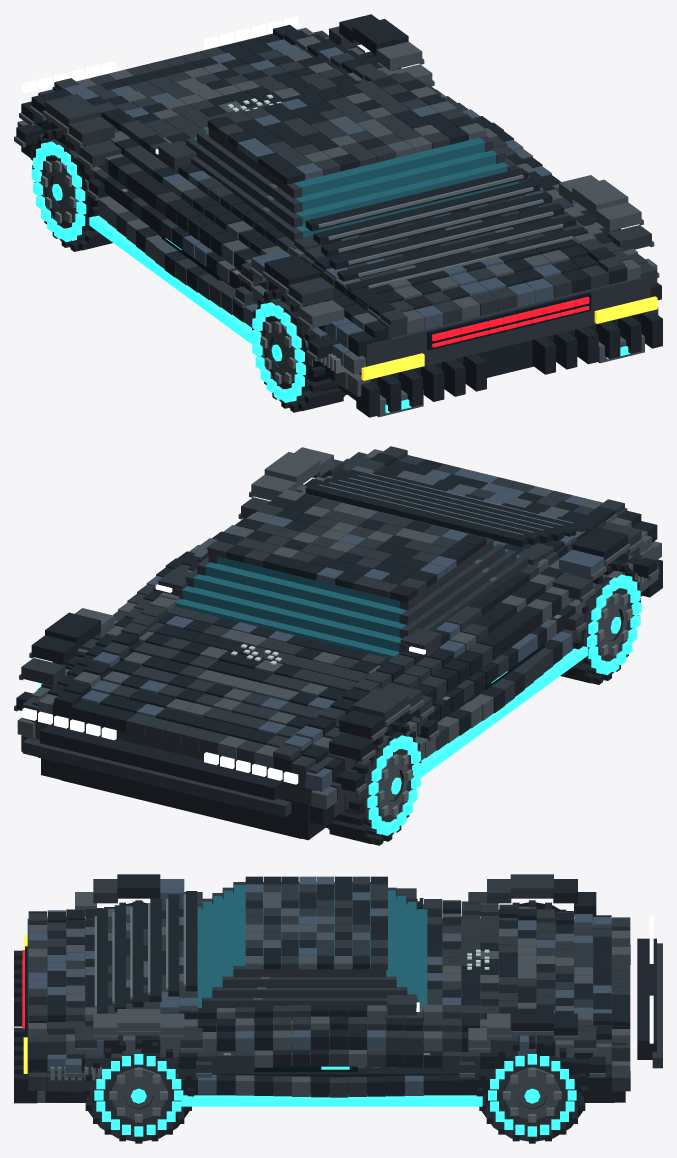
The model's file is interceptor.glb.
The picture shows the model from 3 angles, top to bottom: view 1: azimuth 30°, elevation 25°; view 2: azimuth 150°, elevation 25°; view 3: azimuth 270°, elevation 25°; orthographic projection. The views are drawn at different scales.
Visible parts, largest first — view 1: K-77 INTERCEPTOR; view 2: K-77 INTERCEPTOR; view 3: K-77 INTERCEPTOR.
Boxes of the visible parts, box(x1,y1,x2,y2) form: K-77 INTERCEPTOR: box(14, 14, 662, 417); K-77 INTERCEPTOR: box(14, 446, 662, 845); K-77 INTERCEPTOR: box(14, 874, 662, 1143).
Bounding box in the file's own units: 2.89 × 1.36 × 5.28.
